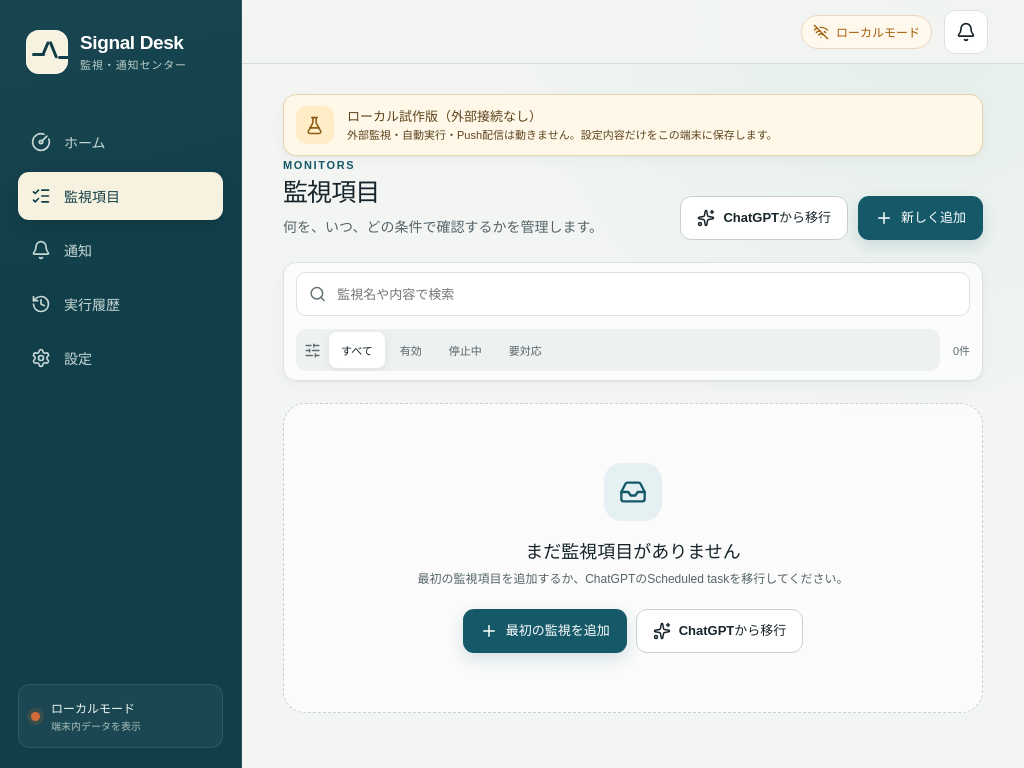
Test case: Signal Desk › validates required monitor fields
Click the button "最初の監視を追加". click: click(545, 631)
box: [463,609,627,653]
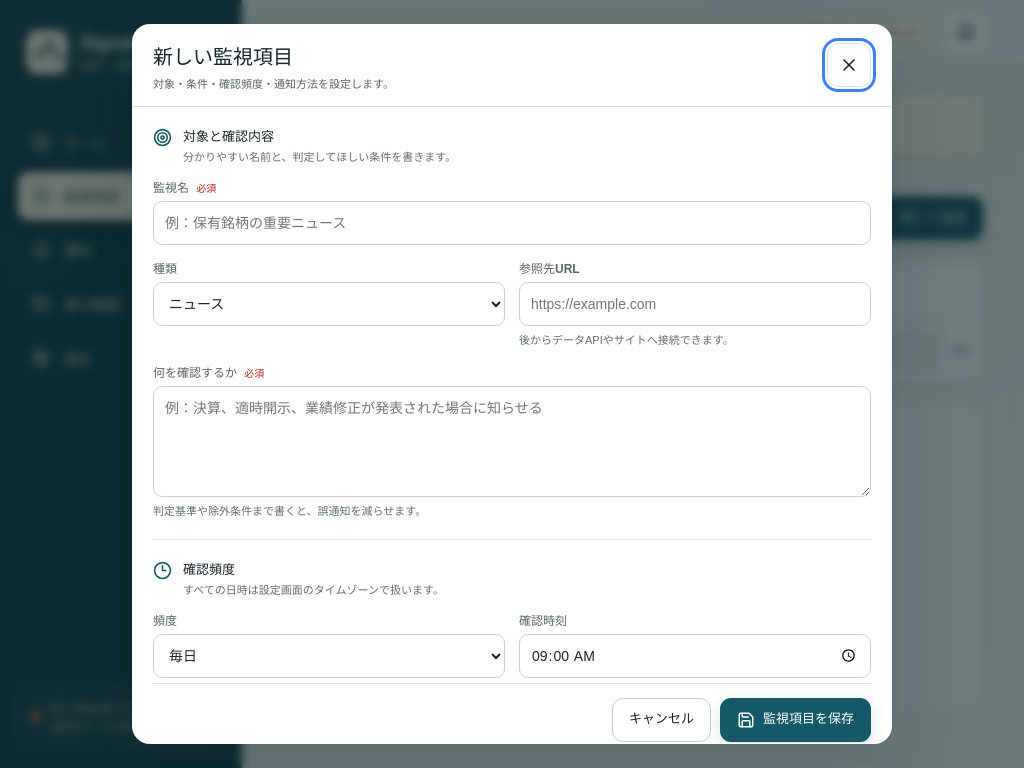
Click the button "監視項目を保存". click: click(796, 720)
box: [720,698,871,742]
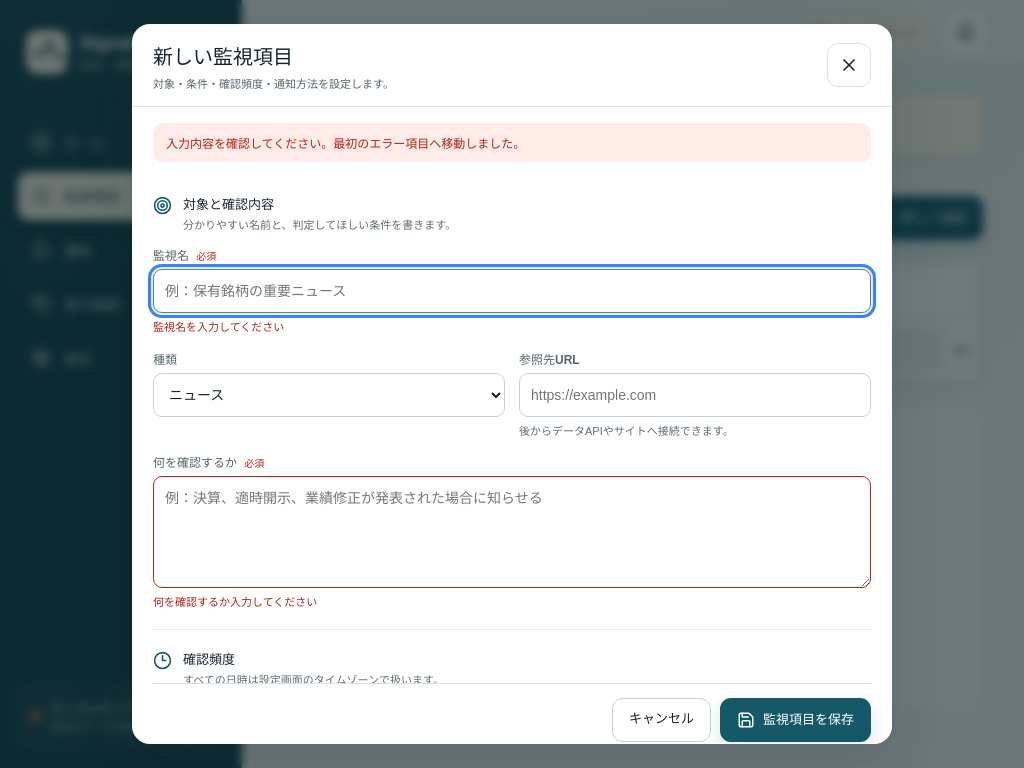
expect the text "監視名を入力してください" is shown: met, box [153,321,284,333]
expect the text "何を確認するか入力してください" is shown: met, box [153,596,317,608]
